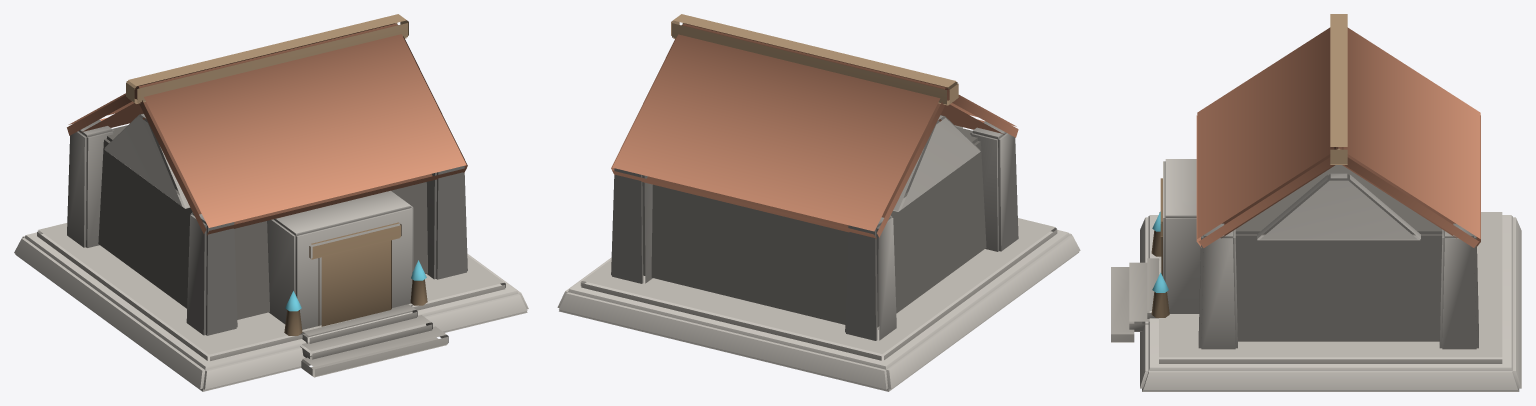
The model's file is core_archive_townhall_lv0_lod1.glb.
3 views of the same model, side by side, from view 1: azimuth 30°, elevation 25°; view 2: azimuth 150°, elevation 25°; view 3: azimuth 270°, elevation 25° (orthographic).
Parts seen in each view (by area): view 1: core_archive_townhall_lv0.001; view 2: core_archive_townhall_lv0.001; view 3: core_archive_townhall_lv0.001.
Part boxes in pixels (x1,y1,x2,y2): core_archive_townhall_lv0.001: (14,14,528,391); core_archive_townhall_lv0.001: (557,14,1080,391); core_archive_townhall_lv0.001: (1111,14,1521,391).
Size of the model in its own units: 4.62 by 3.1 by 4.99.
